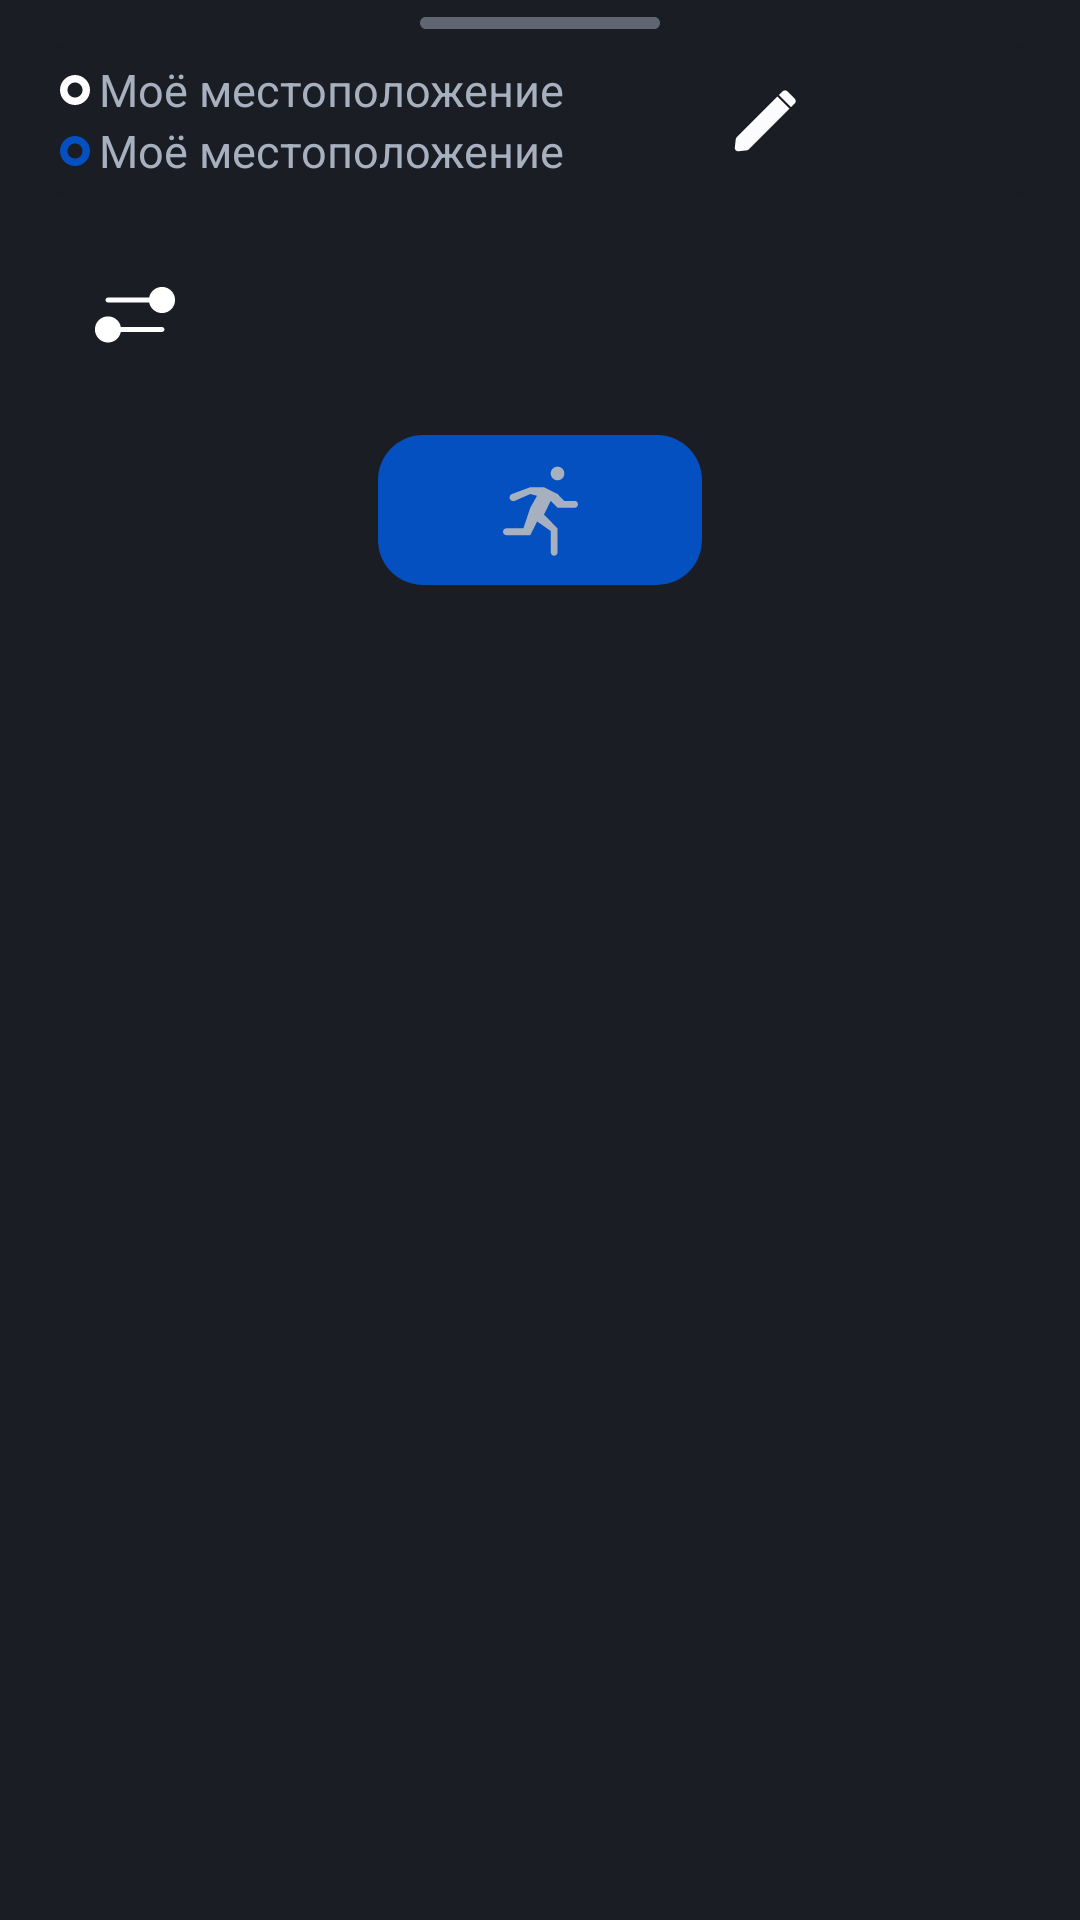

Named icons in this screenshot (1080×1920) and their bounding boxes, BBox(x1, y1, x2, y2):
circle: BBox(60, 75, 90, 105), BBox(60, 136, 90, 166)
edit: BBox(734, 90, 796, 152)
filter: BBox(95, 287, 175, 343)
human: BBox(378, 435, 702, 585)
